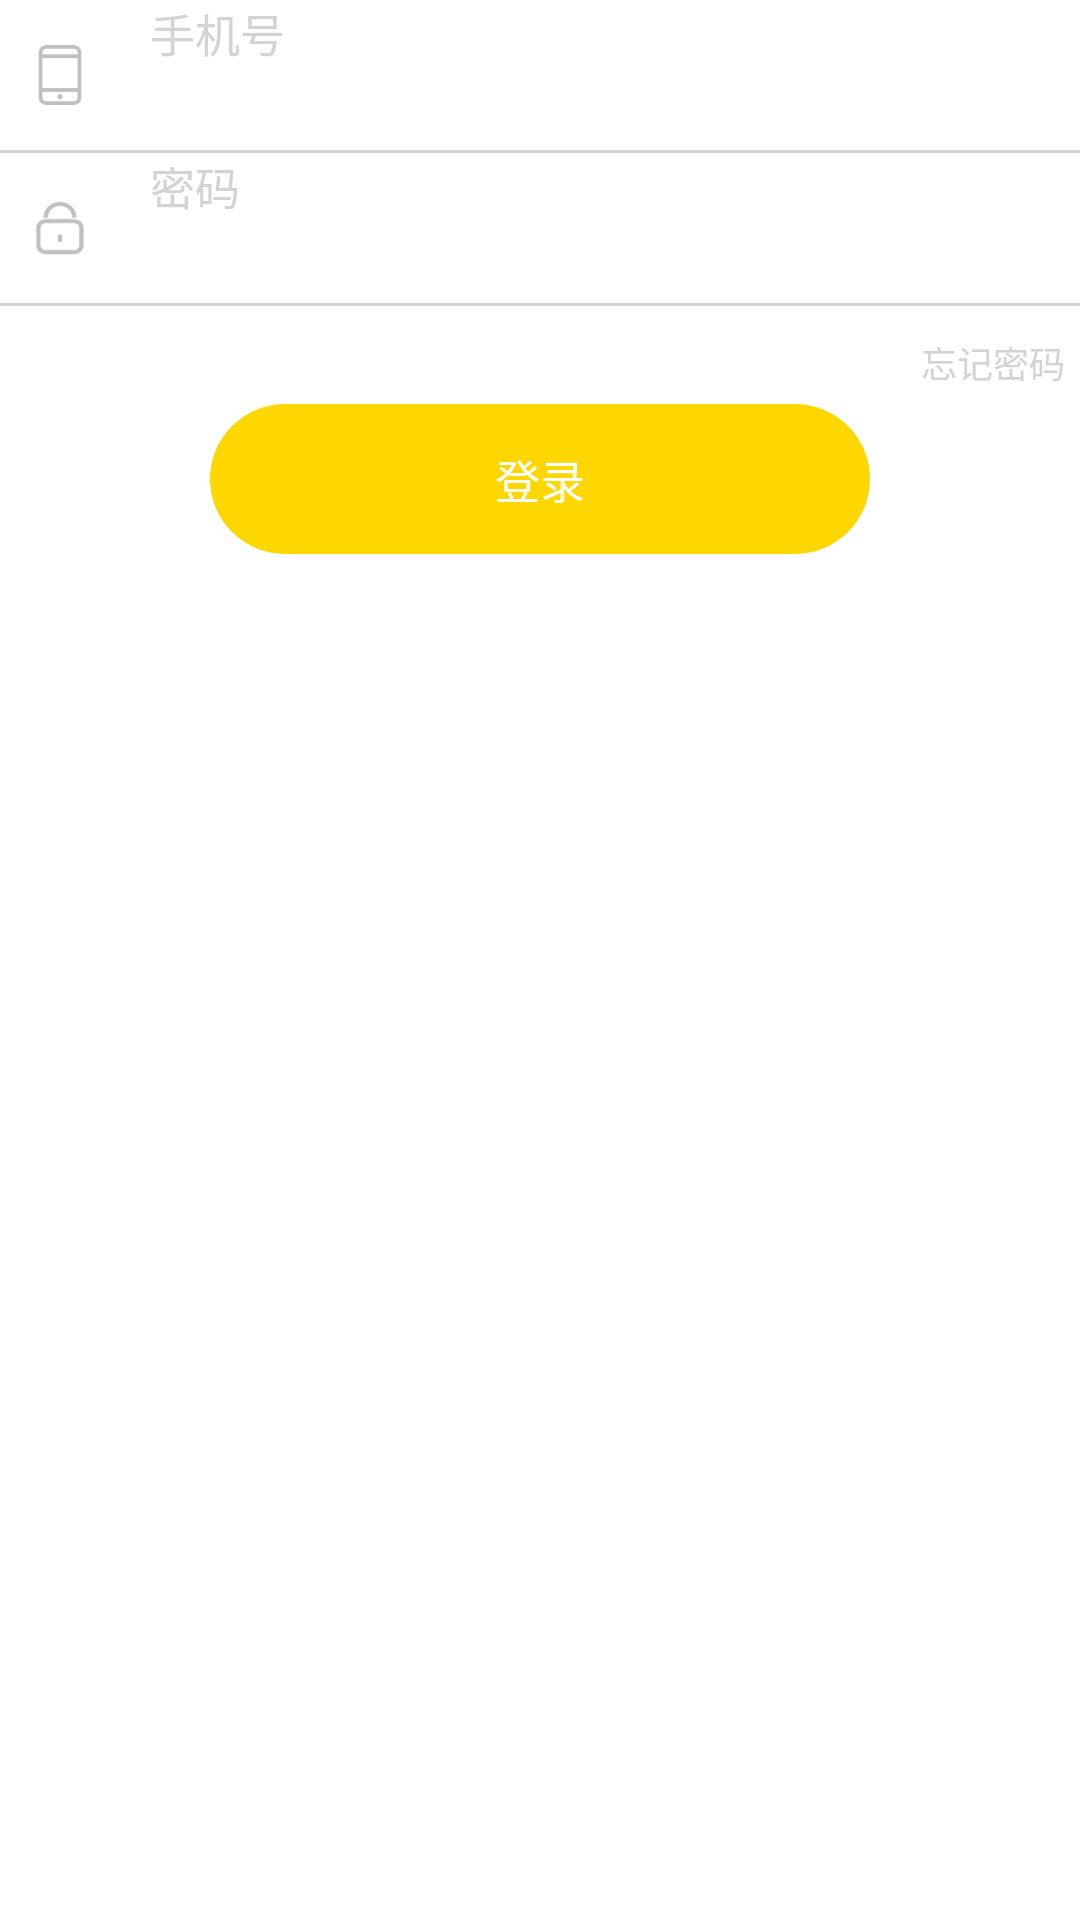

Named icons in this screenshot (1080*1920) and their bounding boxes, (x1, y1, x2, y2):
password: (36, 202, 84, 254)
tel: (38, 45, 82, 105)
